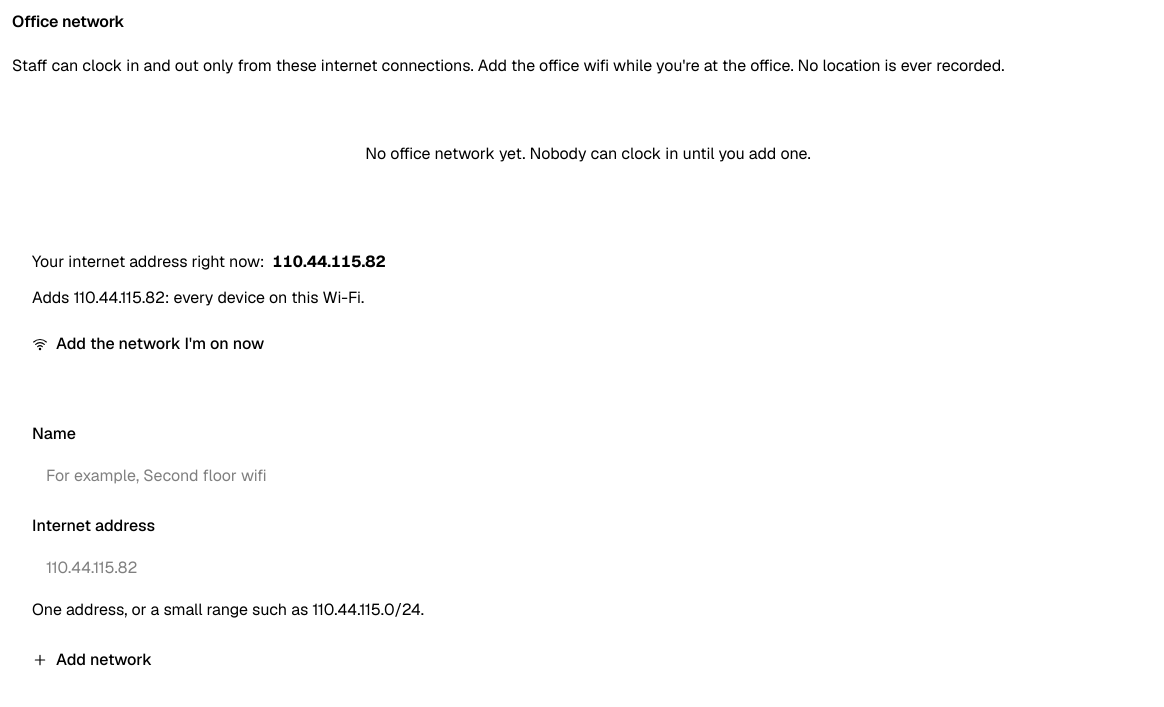
Test: OfficeNetworkSettings › Add the network I'm on now › shows a field refusal too, e.g. when another entry already covers it
Click the button "Add the network I'm on now": click(148, 344) left=32, top=322, right=264, bottom=366
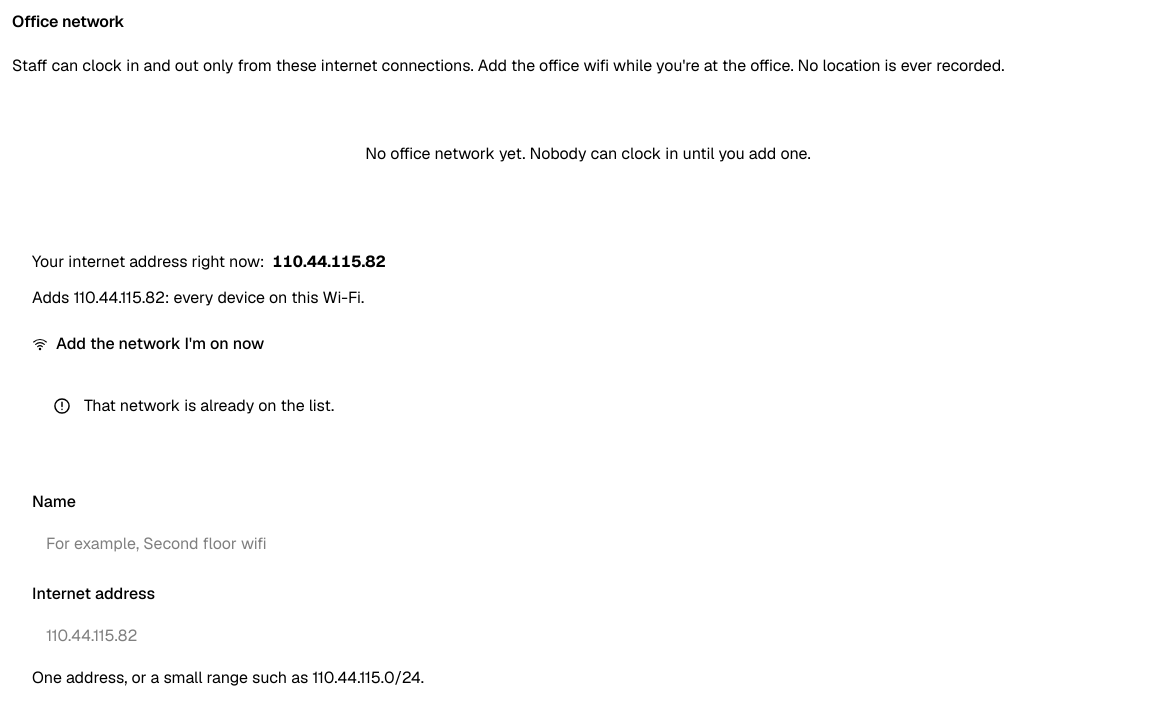
Check: the message reads "That network is already on the list.", box left=84, top=395, right=334, bottom=416
